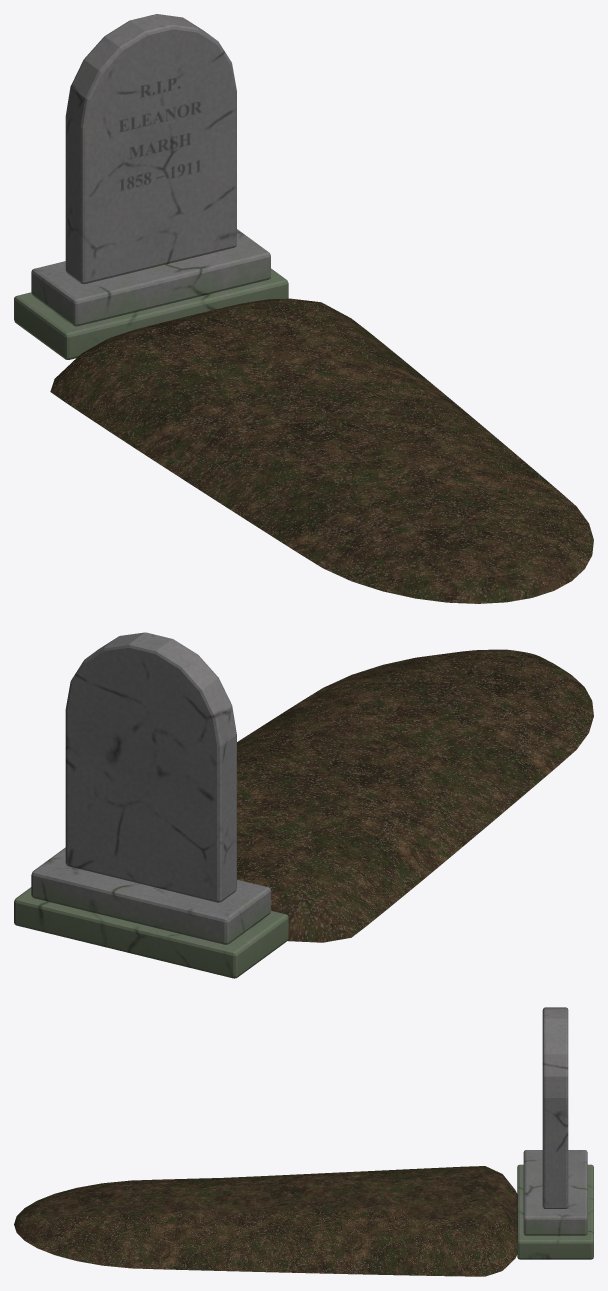
The model's file is gravestone_arch_a.glb.
The picture shows the model from 3 angles, top to bottom: view 1: azimuth 30°, elevation 25°; view 2: azimuth 150°, elevation 25°; view 3: azimuth 270°, elevation 25°; orthographic projection. The views are drawn at different scales.
Parts seen in each view (by area): view 1: gravestone_arch_a; view 2: gravestone_arch_a; view 3: gravestone_arch_a.
Boxes of the visible parts, bbox=[...] form: gravestone_arch_a: bbox=[14, 14, 593, 603]; gravestone_arch_a: bbox=[14, 632, 593, 978]; gravestone_arch_a: bbox=[14, 1007, 593, 1276].
Bounding box in the file's own units: 1.16 × 1.09 × 2.72.
Materials: 2 (2 with a texture image).
